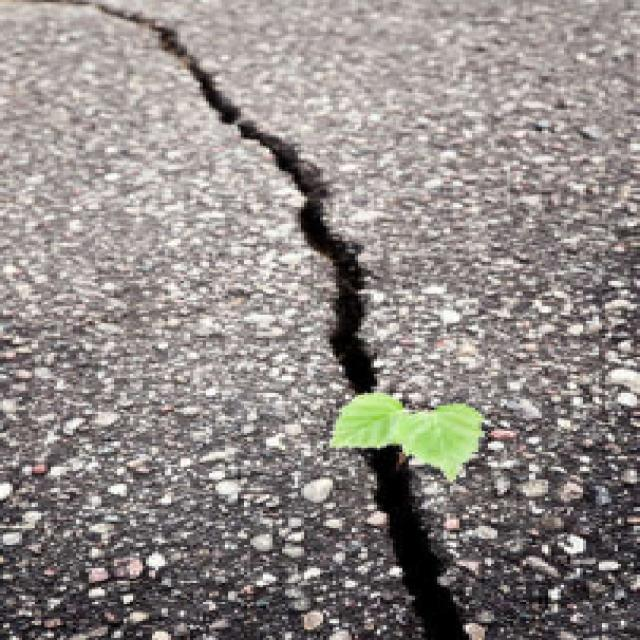diagonal crack: (97, 4, 466, 639)
